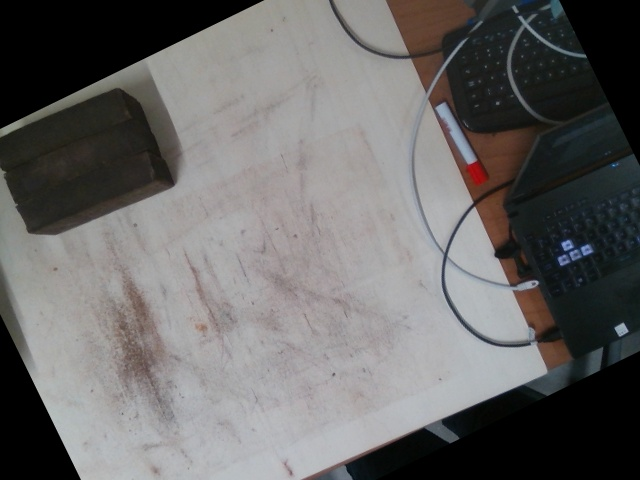brick-side: (20, 150, 156, 233), (3, 120, 140, 202)
